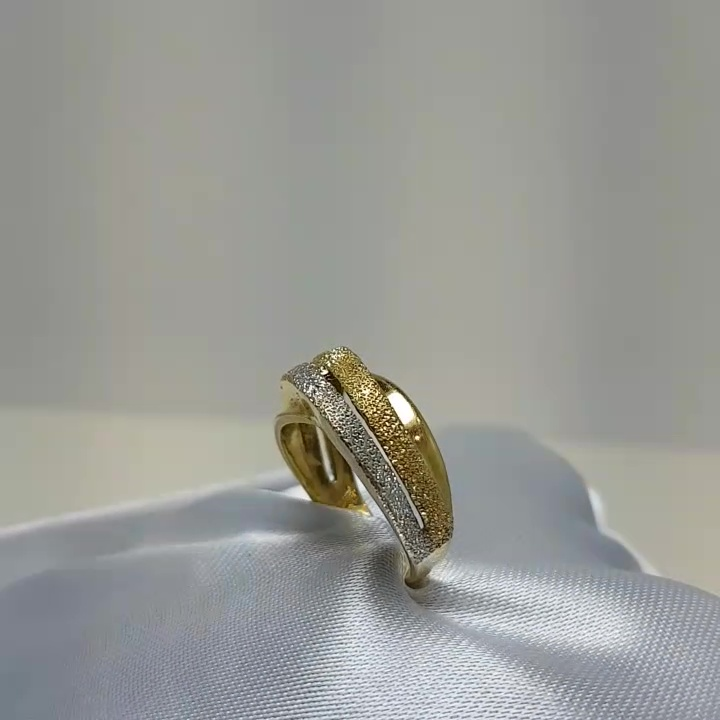Ring 5: (242, 338, 471, 601)
